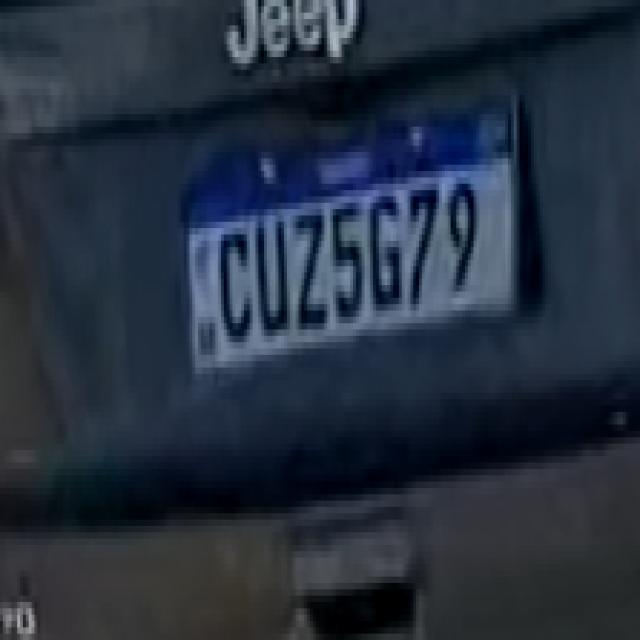Placa_mercosul_carro: (179, 89, 520, 379)
